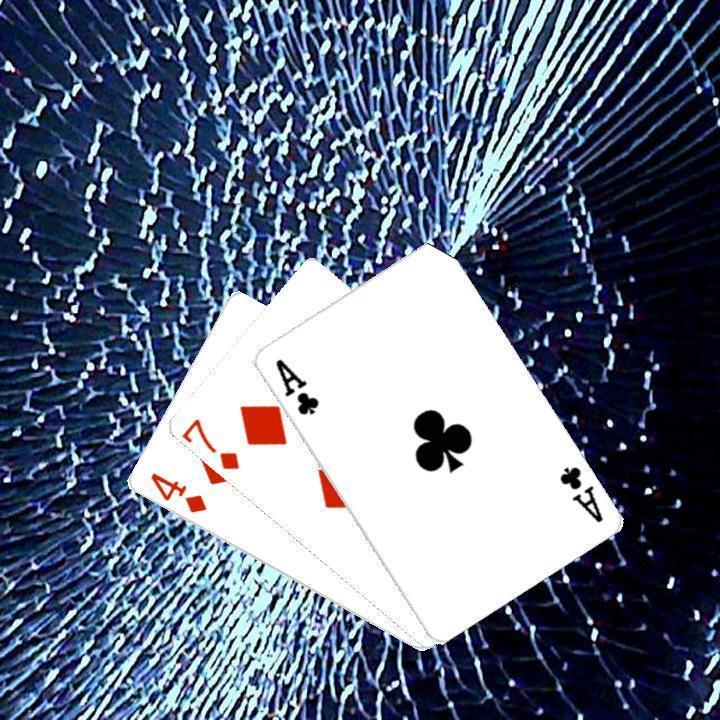4: (145, 468, 208, 516)
7: (178, 414, 241, 472)
A: (554, 461, 605, 525), (270, 354, 321, 417)
